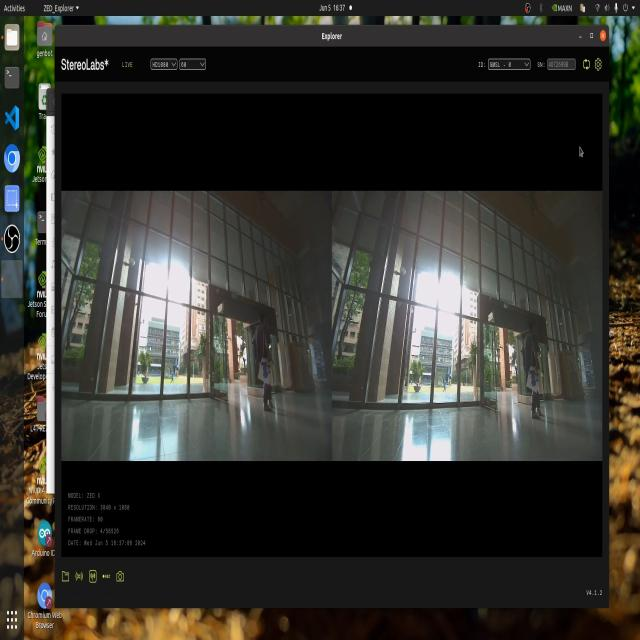blue: (252, 354, 276, 388), (520, 368, 546, 392)
